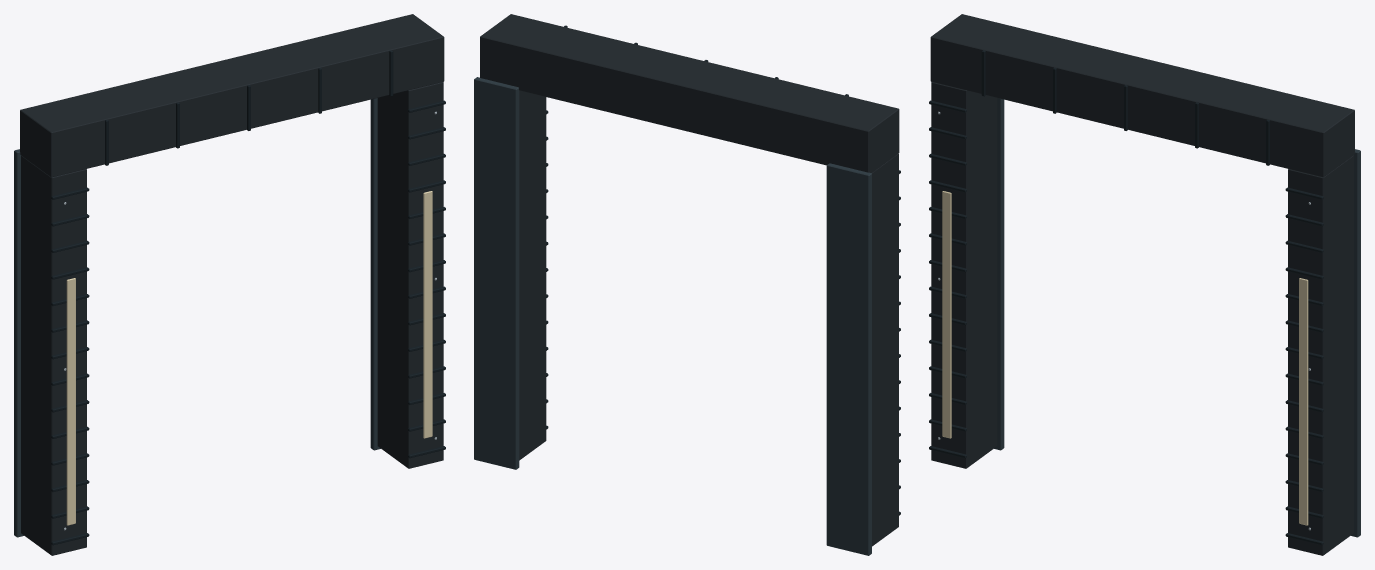
File: b12_loading_dock_door_seal.glb
3 views of the same model, side by side, from view 1: azimuth 30°, elevation 25°; view 2: azimuth 150°, elevation 25°; view 3: azimuth 330°, elevation 25° (orthographic).
Parts seen in each view (by area): view 1: b12_loading_dock_door_seal; view 2: b12_loading_dock_door_seal; view 3: b12_loading_dock_door_seal.
Boxes of the visible parts, <box> form: b12_loading_dock_door_seal: <box>14,14,445,555</box>; b12_loading_dock_door_seal: <box>474,14,900,555</box>; b12_loading_dock_door_seal: <box>929,14,1360,555</box>.
Size of the model in its own units: 3.15 by 3.21 by 0.5065.
